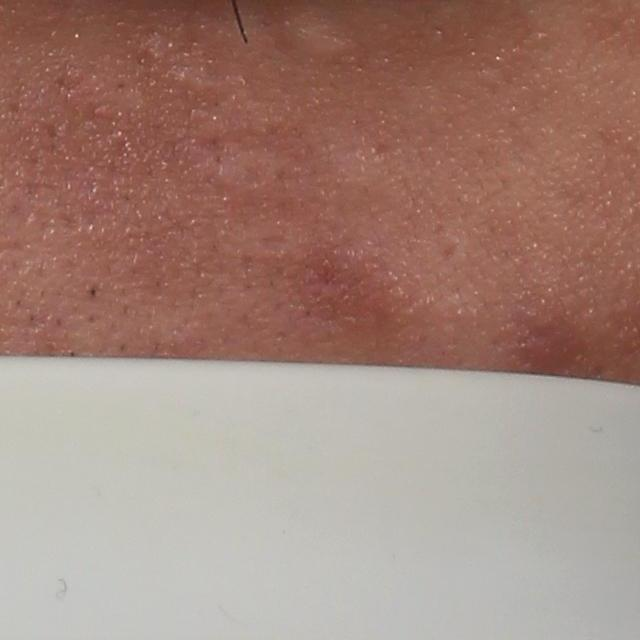hypertrophic_scar: (194, 139, 300, 193), (281, 17, 357, 62)
